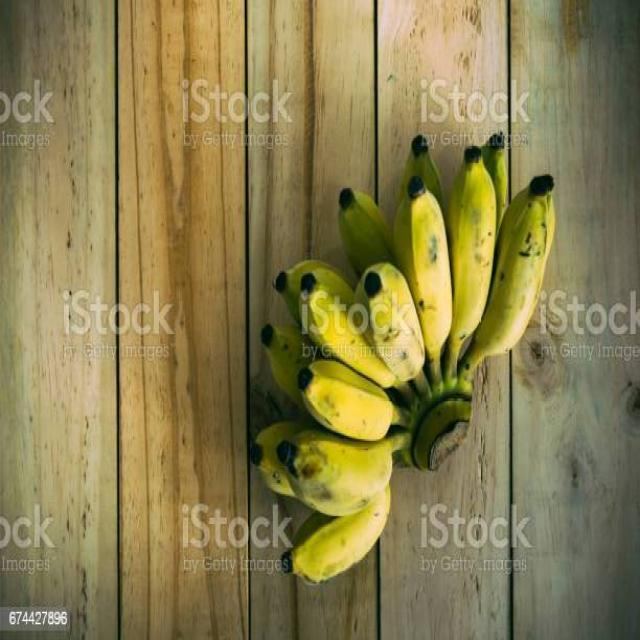Banana: (244, 124, 560, 589)
